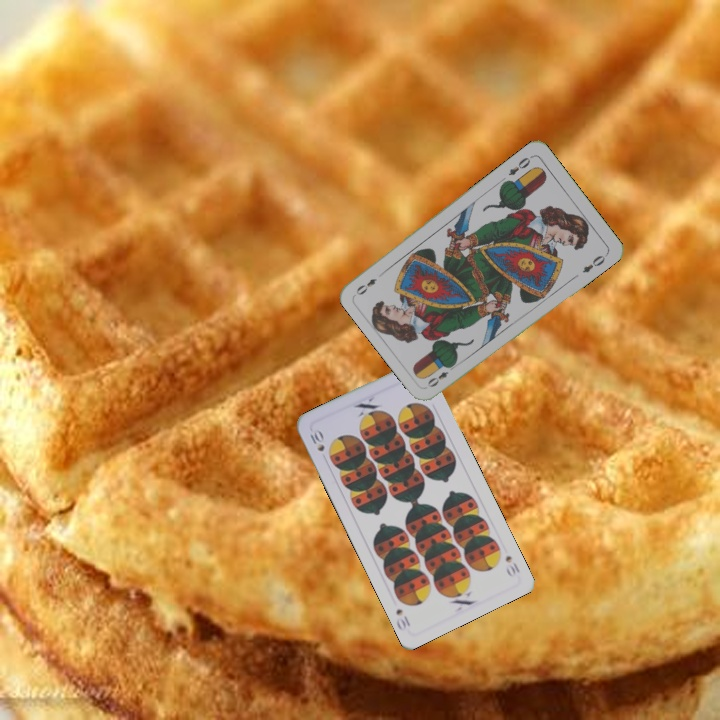EO: (423, 360, 458, 390), (504, 151, 535, 178)
S10: (306, 425, 327, 454), (501, 551, 522, 579)
